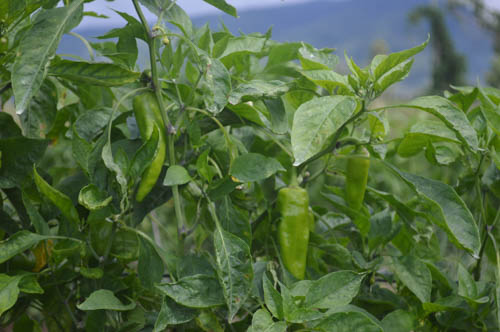ChiliPepper: (130, 94, 161, 209), (278, 189, 307, 282), (342, 151, 371, 212)
